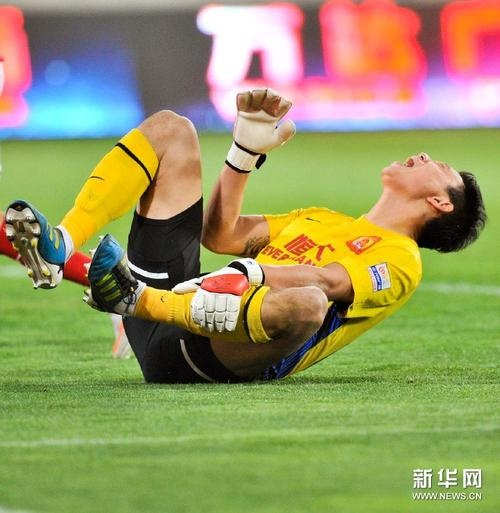falling: (12, 69, 490, 380)
